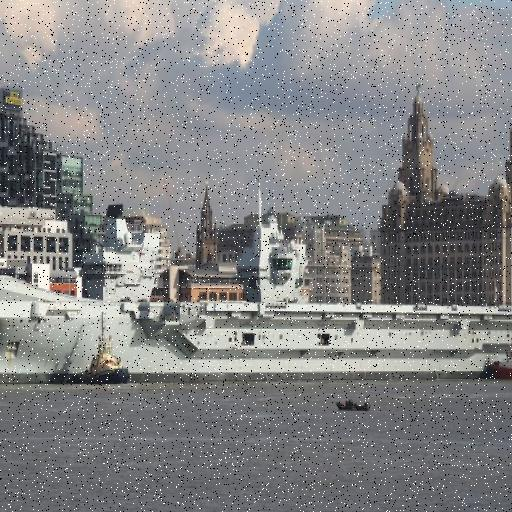Portanaves: (1, 151, 512, 397)
